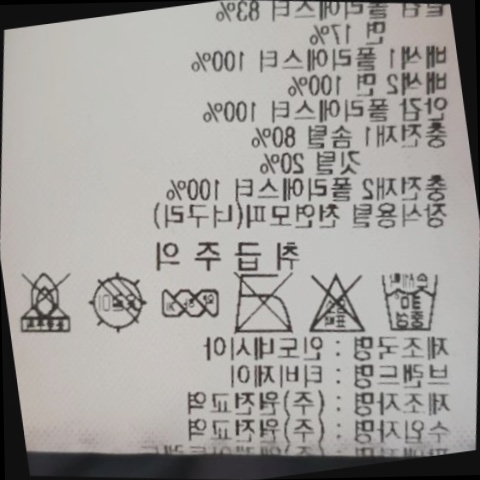DN_iron: (222, 263, 305, 346)
hand_wash: (366, 259, 447, 343)
line_dry_in_shade: (77, 264, 152, 341)
non_chlorine_bleach: (292, 255, 376, 344)
wring: (149, 274, 225, 330)
